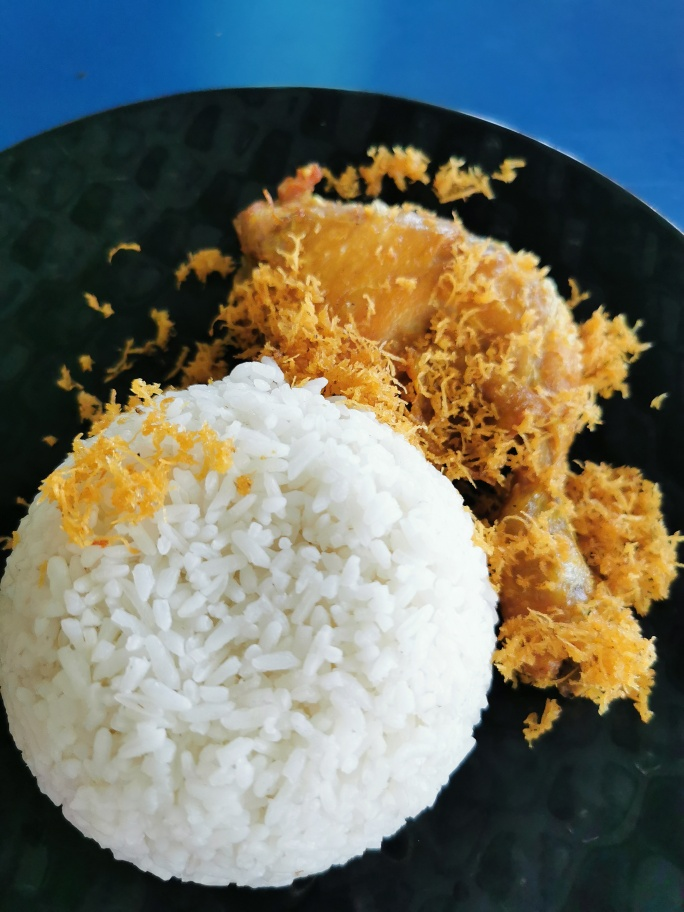ayam goreng: (232, 148, 663, 730)
nasi putih: (1, 376, 493, 883)
